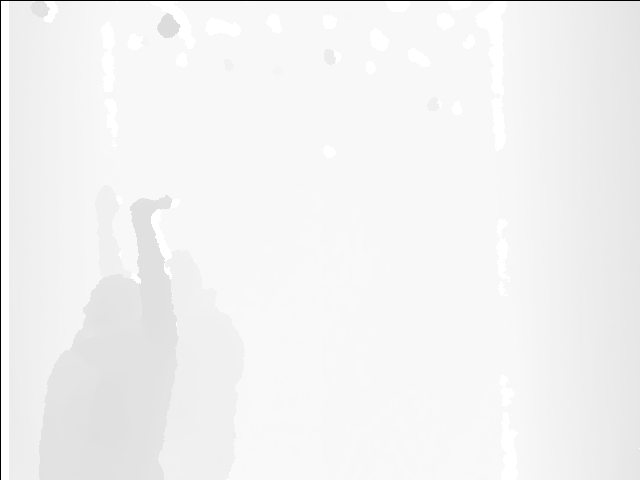hand: (131, 194, 173, 226), (91, 182, 120, 228)
